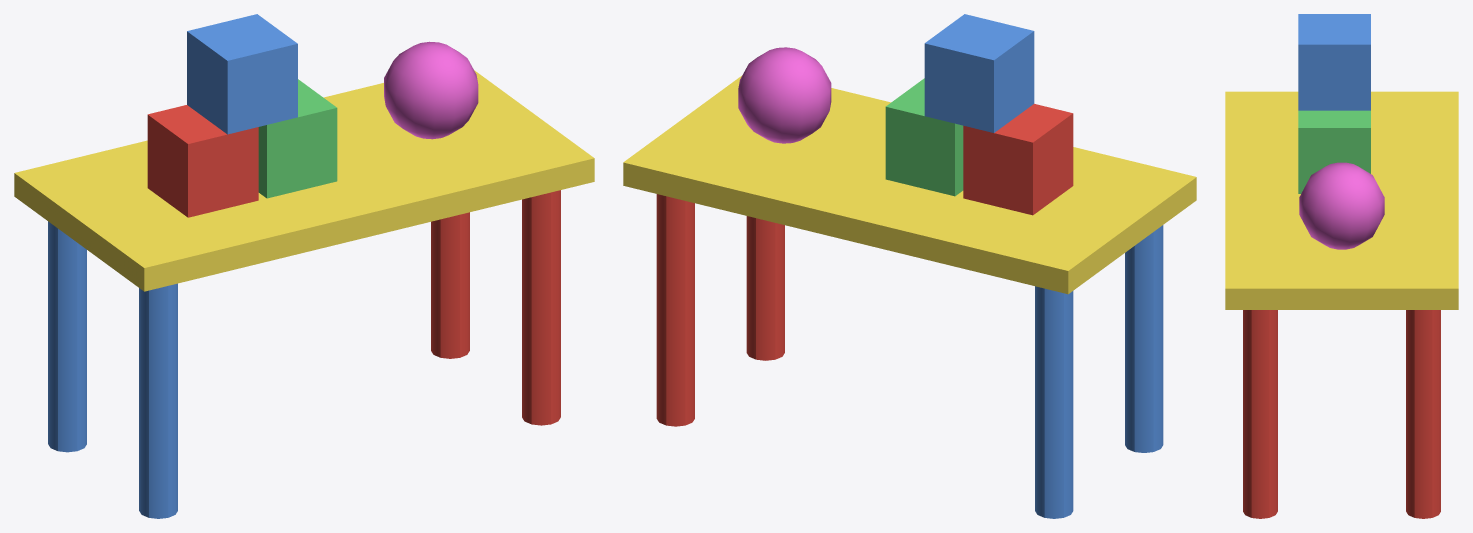
File: Table_Cartoon.fbx
3 views of the same model, side by side, from view 1: azimuth 30°, elevation 25°; view 2: azimuth 150°, elevation 25°; view 3: azimuth 270°, elevation 25° (orthographic). The views are drawn at different scales.
Parts seen in each view (by area): view 1: Table_Cartoon; view 2: Table_Cartoon; view 3: Table_Cartoon.
Part boxes in pixels (left/top/right/bottom): Table_Cartoon: left=14, top=14, right=594, bottom=518; Table_Cartoon: left=623, top=14, right=1196, bottom=518; Table_Cartoon: left=1225, top=14, right=1458, bottom=518.
Size of the model in its own units: 1.6 by 1.4 by 0.8.
